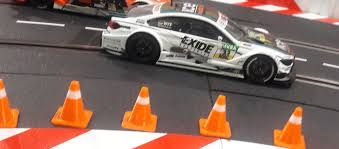car: (101, 2, 296, 88)
cone: (50, 79, 95, 127), (121, 86, 163, 133), (199, 93, 234, 137), (272, 106, 306, 148), (1, 72, 21, 127)
